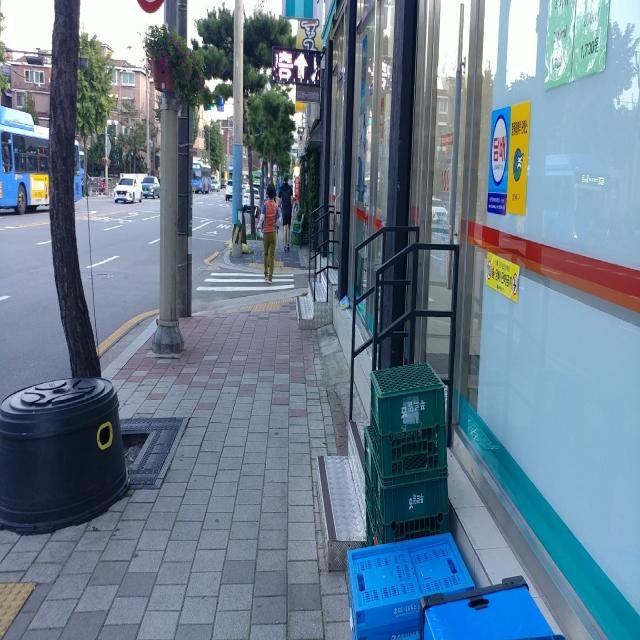횡단보도: (196, 272, 295, 290)
